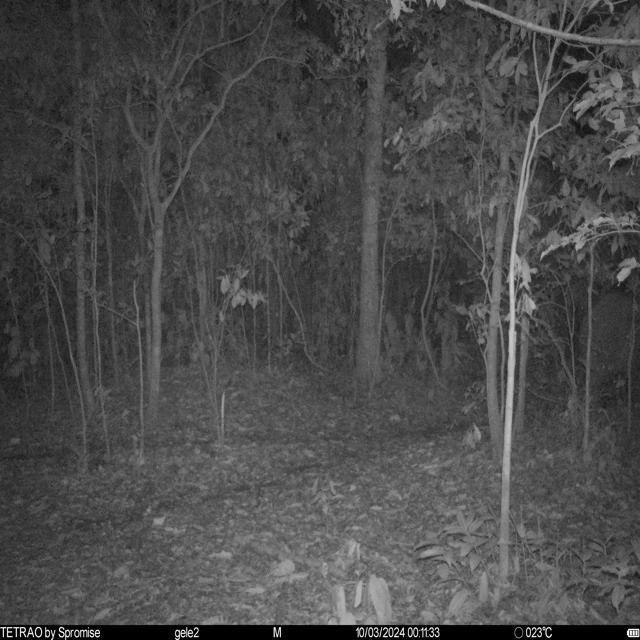elephant: (578, 292, 638, 400)
